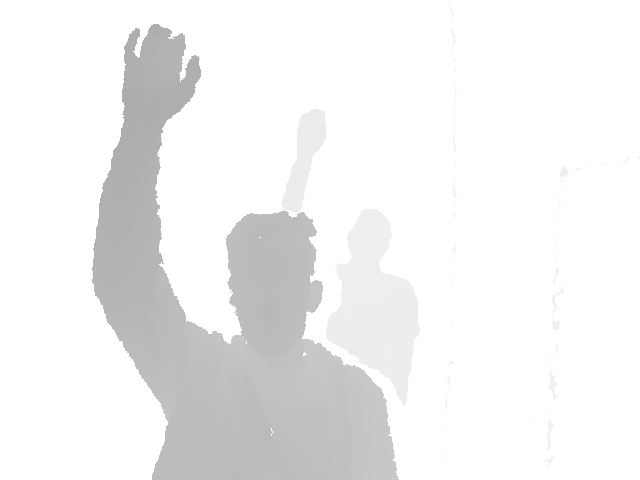hand: (121, 24, 200, 130), (298, 109, 326, 156)
head: (224, 211, 321, 355), (345, 207, 391, 270)
person: (88, 24, 399, 480), (280, 109, 420, 409)
